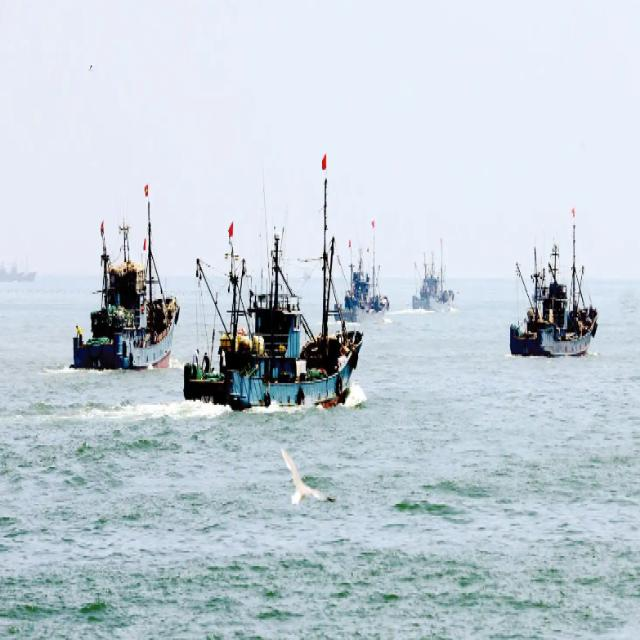fishing boat: (185, 264, 364, 418), (68, 194, 178, 378), (508, 221, 598, 358), (332, 219, 388, 329), (412, 241, 454, 315)
